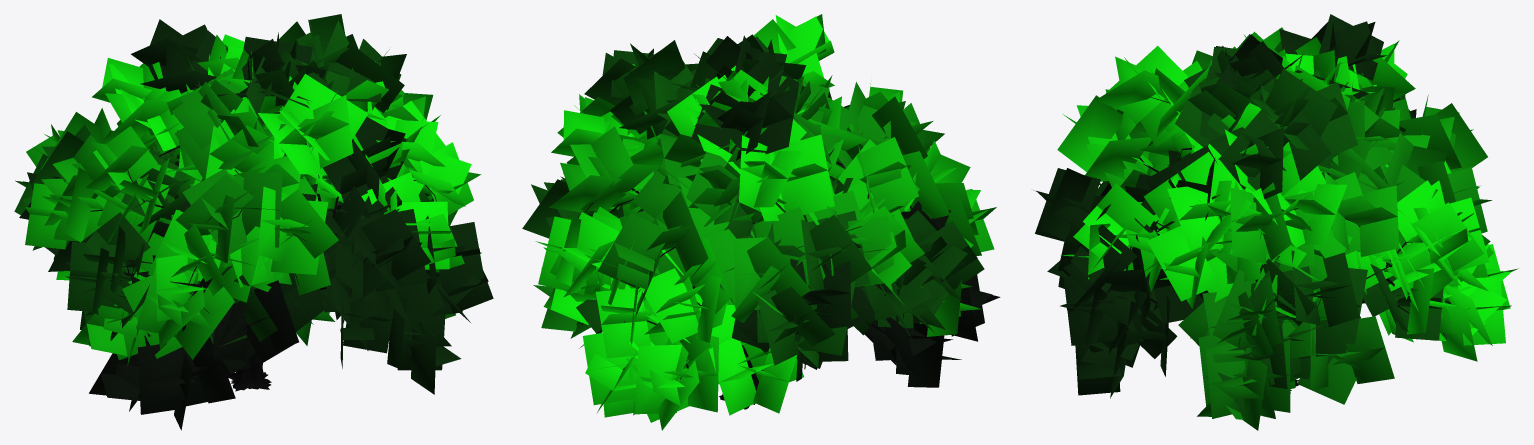
File: Euro_Beech_2.fbx
The picture shows the model from 3 angles, left to right: view 1: azimuth 30°, elevation 25°; view 2: azimuth 150°, elevation 25°; view 3: azimuth 270°, elevation 25°; orthographic projection. The views are drawn at different scales.
Visible parts, largest first — view 1: Euro_Beech_2; view 2: Euro_Beech_2; view 3: Euro_Beech_2.
Boxes of the visible parts, x1=… form: Euro_Beech_2: x1=14, y1=14, x2=493, y2=430; Euro_Beech_2: x1=522, y1=14, x2=1000, y2=430; Euro_Beech_2: x1=1033, y1=14, x2=1518, y2=430.
Size of the model in its own units: 646 by 512 by 637.
